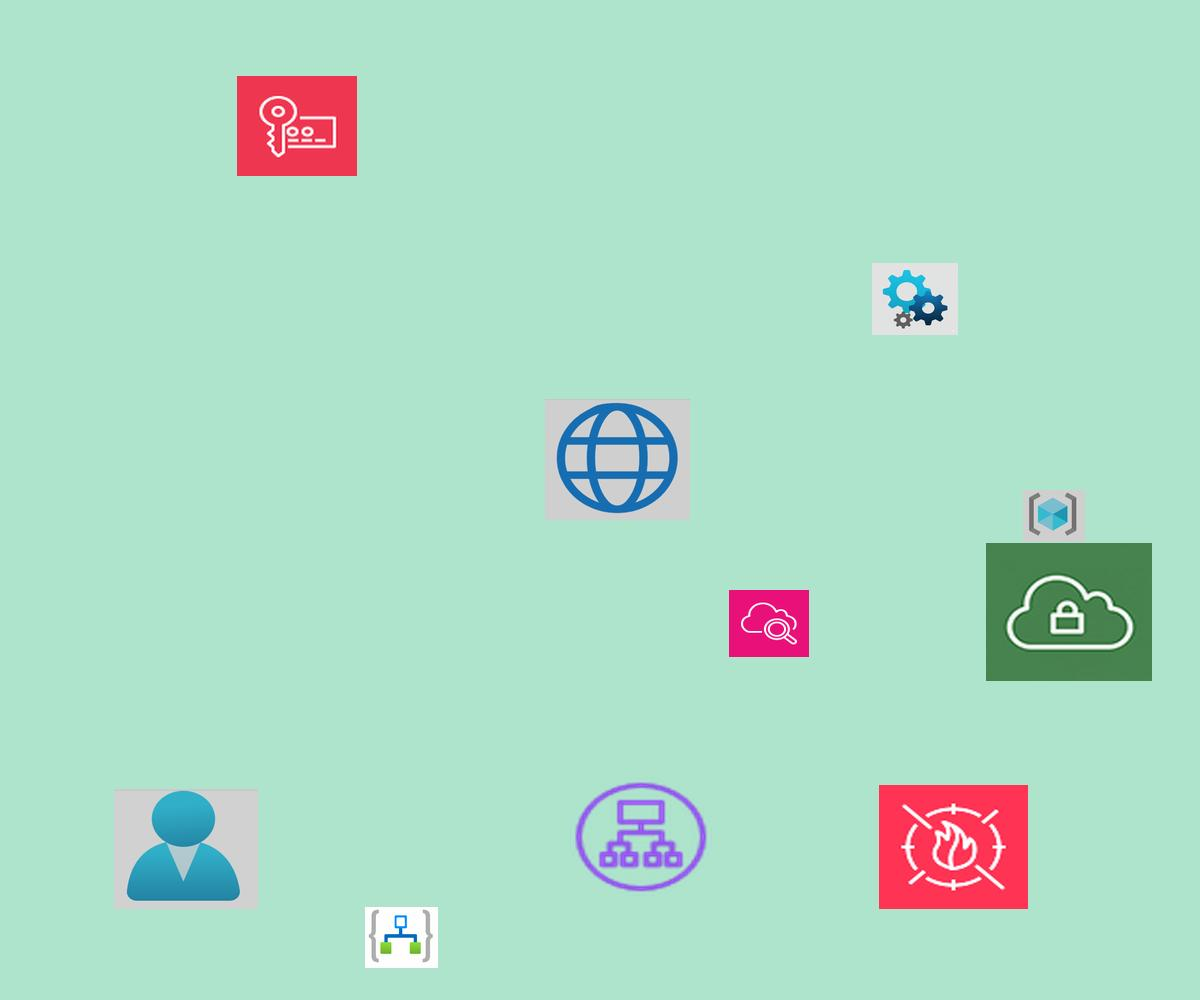AWS-CloudWatch: (729, 590, 809, 657)
AWS-Key-Management-Service: (237, 76, 357, 176)
AWS-Private_vpc: (986, 543, 1152, 681)
AWS-Res_Elastic-Load-Balancing_Application-Load-Balancer: (570, 778, 712, 896)
AWS-WAF: (879, 785, 1028, 909)
Azure_api: (872, 263, 958, 335)
Azure_http: (545, 399, 690, 520)
Azure_integration-204-Logic-Apps: (365, 907, 438, 968)
Azure_resource_group: (1023, 490, 1085, 542)
Azure_users: (114, 789, 258, 909)
